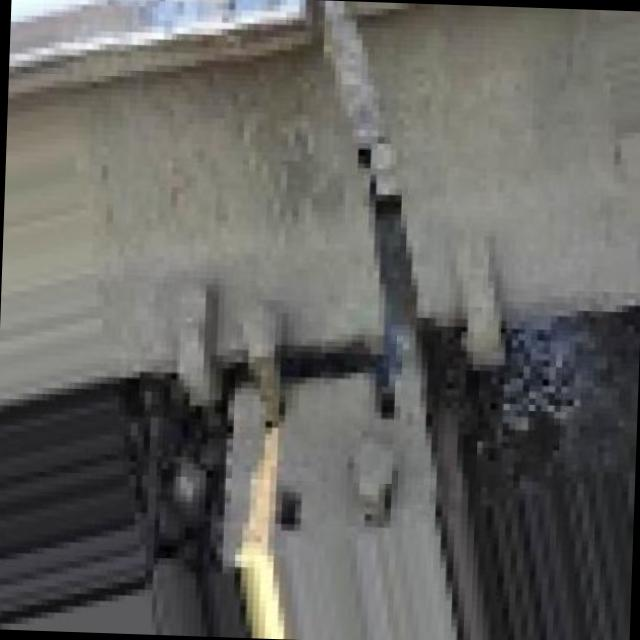defective: (197, 0, 532, 414)
